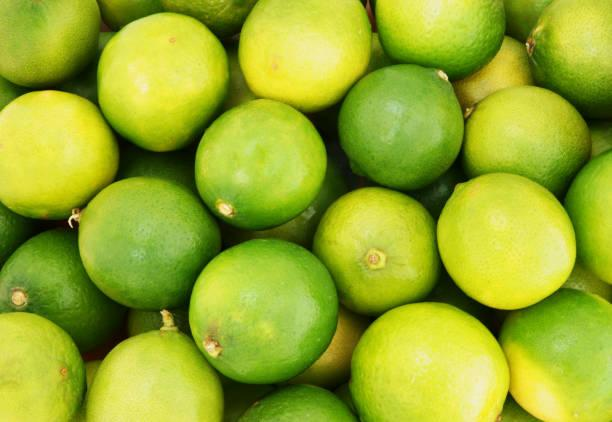lime: (197, 240, 344, 384), (348, 297, 510, 422), (439, 179, 586, 308), (107, 10, 236, 150), (203, 91, 326, 235), (340, 61, 466, 192), (82, 176, 210, 302), (326, 185, 454, 308), (0, 84, 118, 216), (94, 313, 229, 422), (501, 293, 612, 422), (1, 292, 108, 422), (244, 0, 370, 107), (468, 78, 602, 176), (379, 0, 530, 84), (1, 0, 98, 98)
